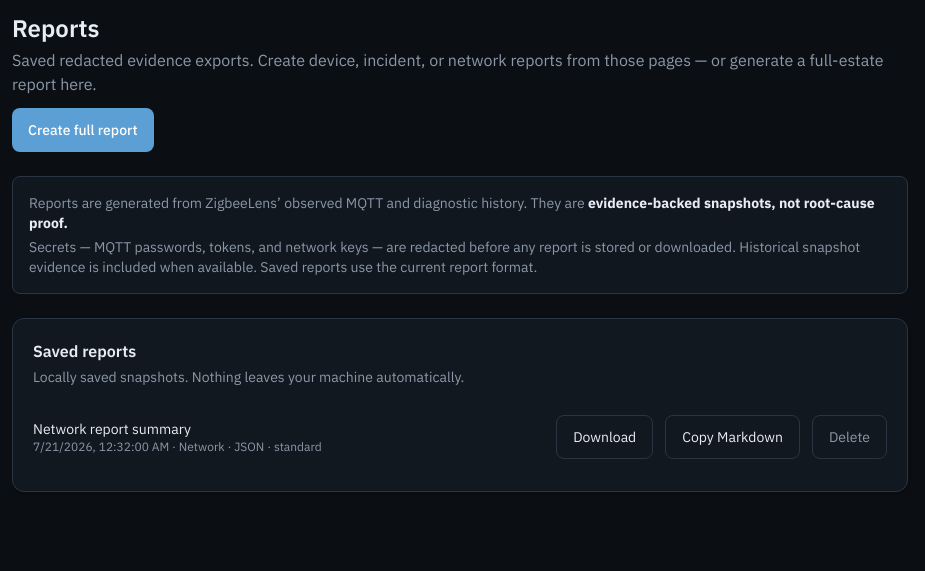
Test: ReportsPage saved history › does not copy an empty Markdown string
Step 1. Click the button with aria-label "Copy Markdown from network JSON report generated" → coordinates (733, 437), box [665,415,800,459]
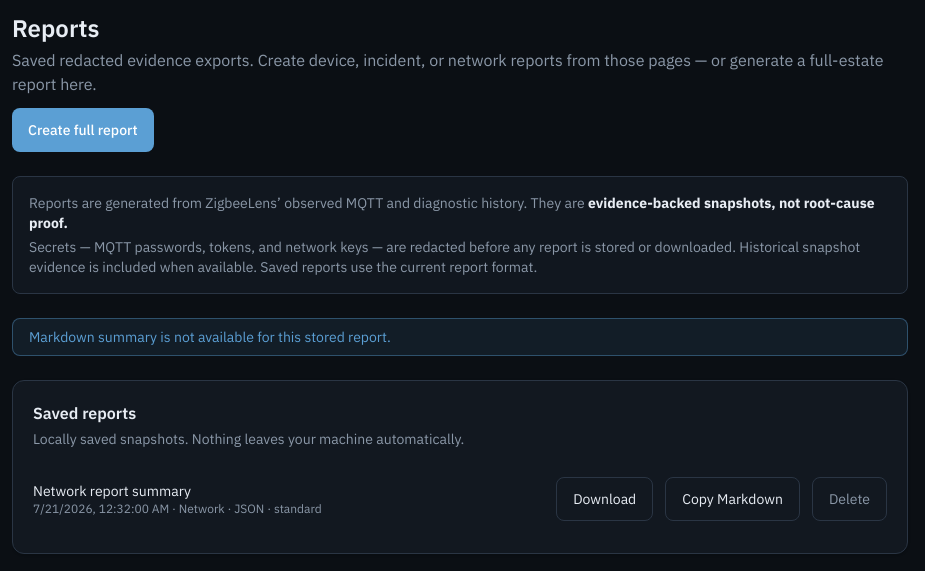
Expected: the text "Markdown summary is not available for this stored report." is shown, [12,318,908,356]
